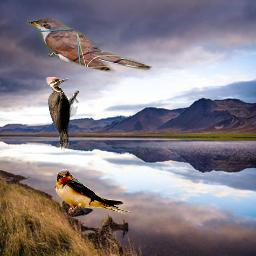Cuckoo: (26, 15, 154, 77)
Swallow: (54, 169, 133, 217)
Woodpecker: (46, 77, 79, 151)
